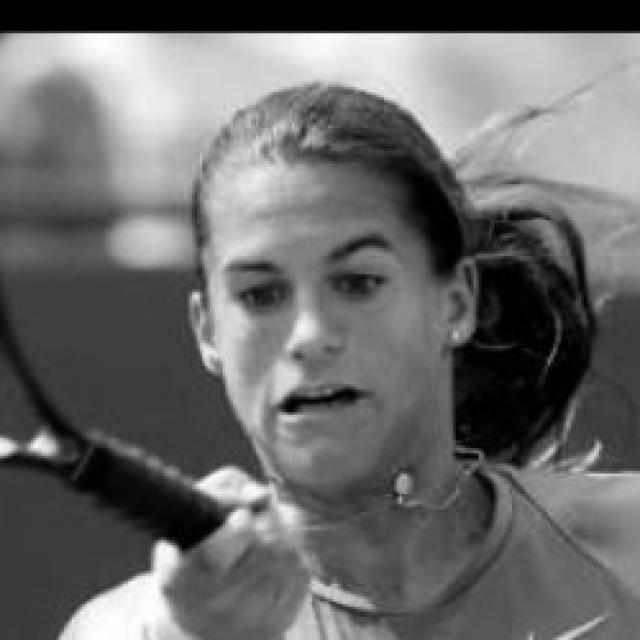real: (201, 159, 439, 490), (220, 251, 417, 318)
